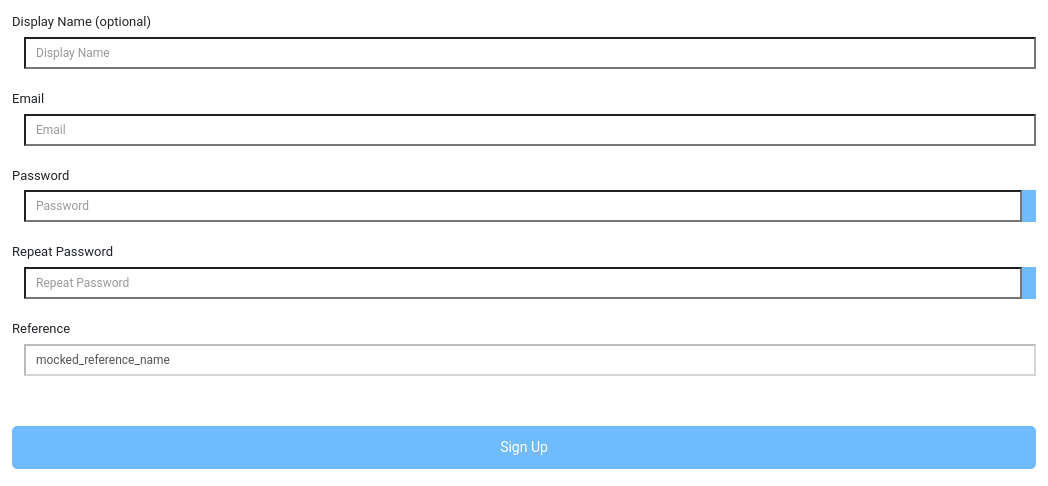
Scenario: Form validation › should render "This is a required field", because Email is missing
Type "John Doe" into the field with placeholder "Display Name" at (530, 53), box [24, 37, 1036, 69]
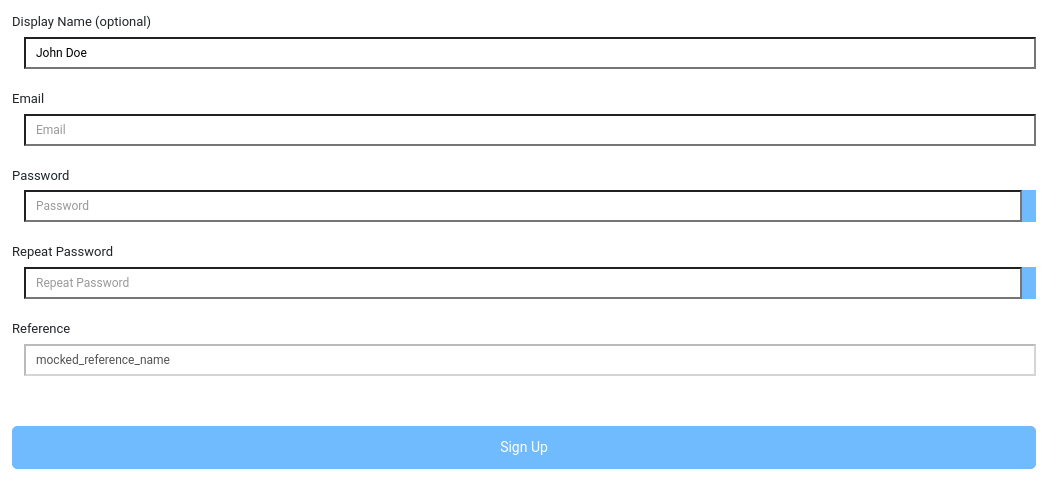
Type "password123!" into the password field with placeholder "Password" at (523, 206), box [24, 190, 1022, 222]
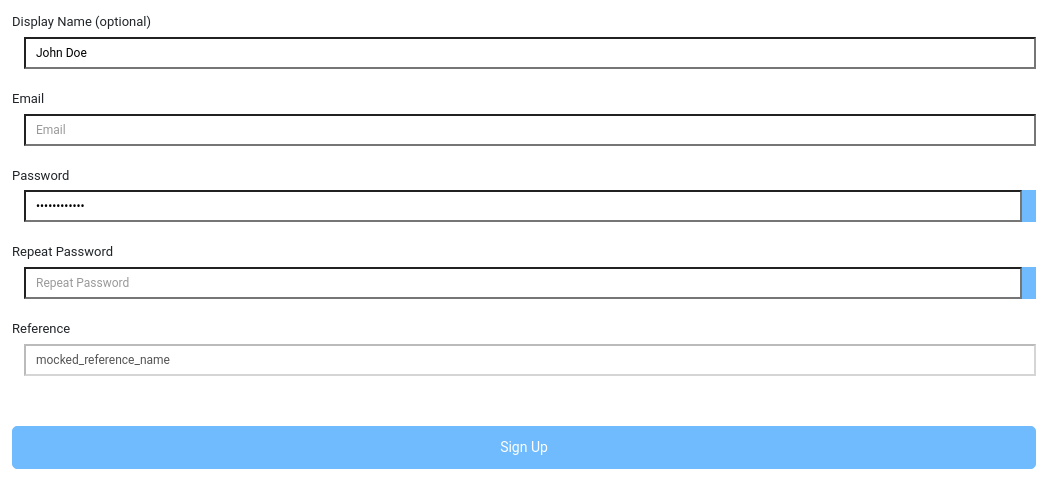
Type "password123!" into the password field with placeholder "Repeat Password" at (523, 283), box [24, 267, 1022, 299]
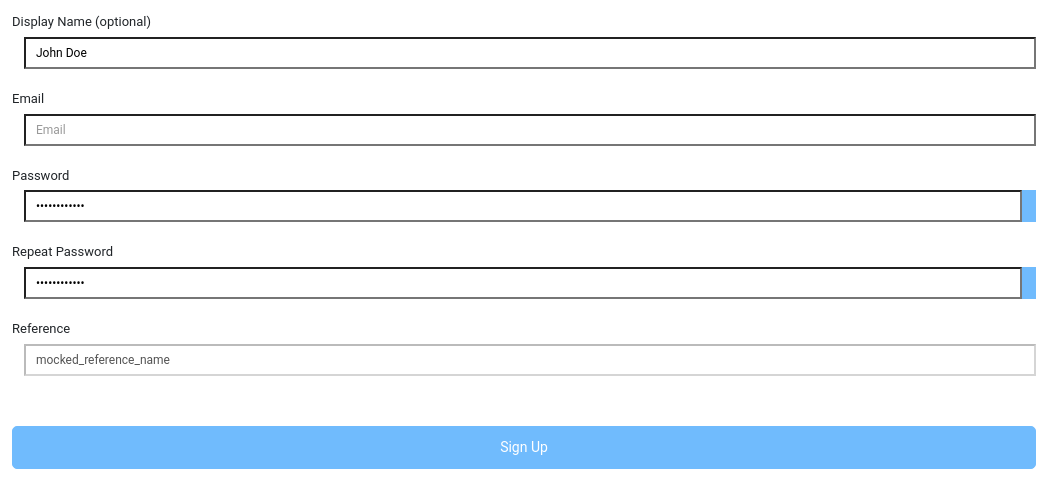
Replace the text in the field with placeholder "Reference" below "Reference" with "ref123" at (530, 360), box [24, 344, 1036, 376]
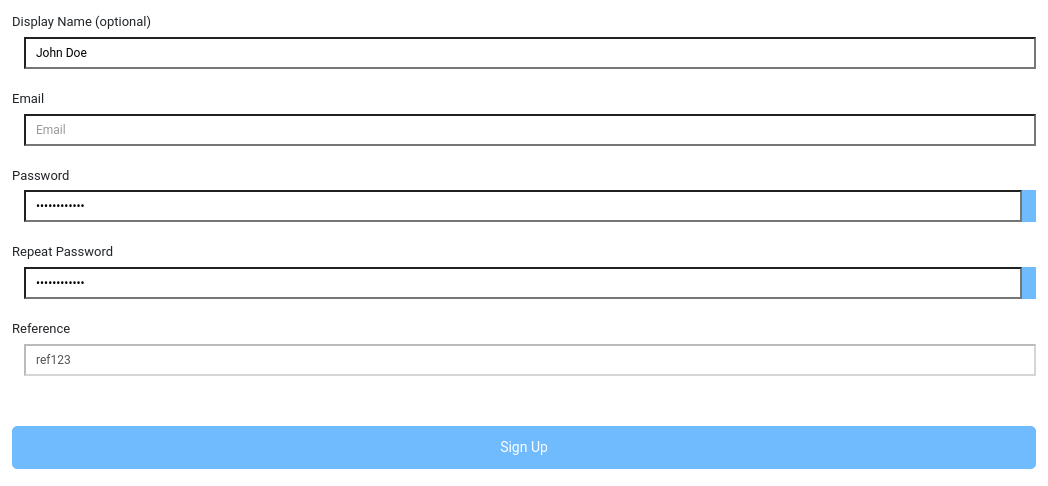
Click the button "Sign Up" at (524, 448), box [12, 426, 1036, 469]
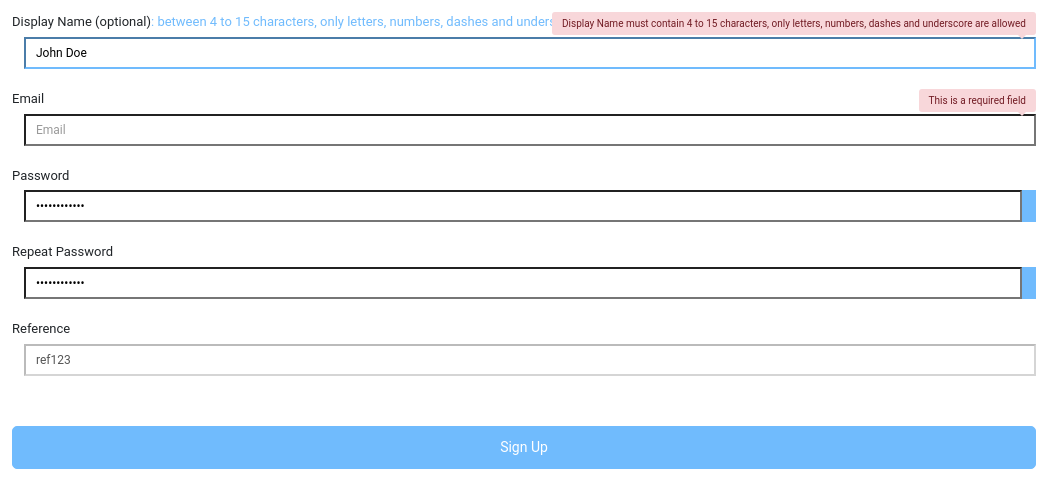
Now the text "This is a required field" is shown, box [919, 89, 1036, 112]
